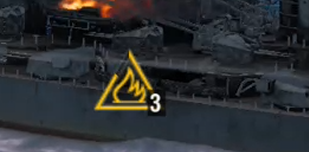3fire: (91, 75, 166, 116)
